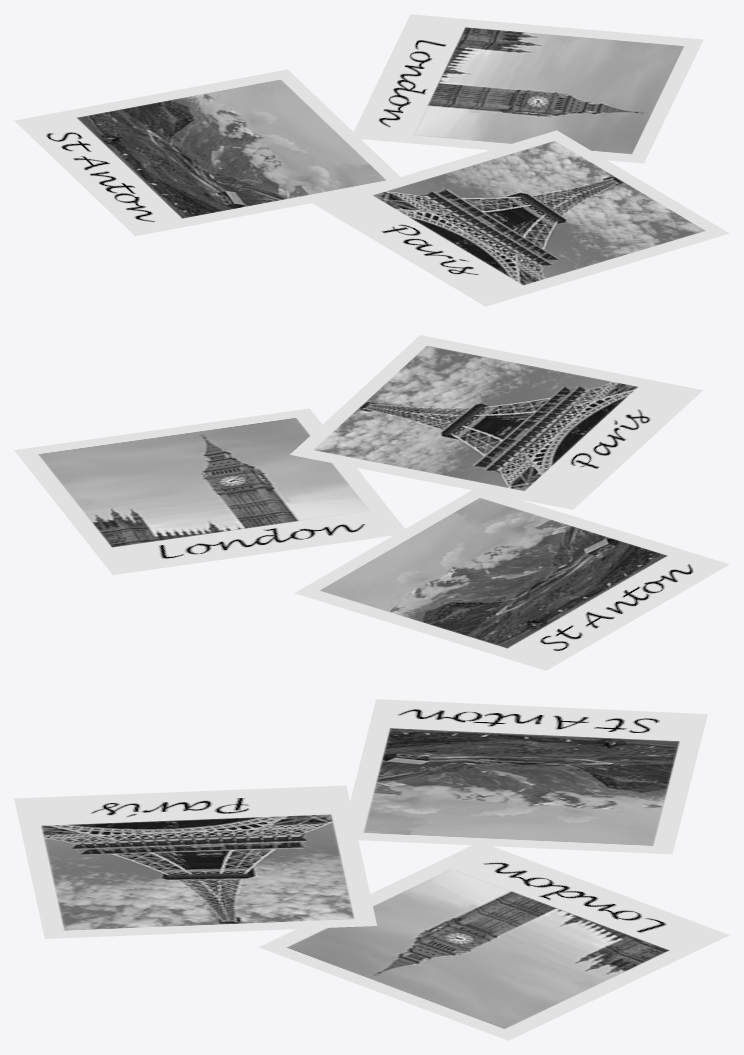
Rendered from Photos.fbx.
The picture shows the model from 3 angles, top to bottom: view 1: azimuth 30°, elevation 25°; view 2: azimuth 150°, elevation 25°; view 3: azimuth 270°, elevation 25°; orthographic projection. The views are drawn at different scales.
Visible parts, largest first — view 1: pPlane2, pPlane4, pPlane3; view 2: pPlane2, pPlane4, pPlane3; view 3: pPlane2, pPlane4, pPlane3.
Part boxes in pixels (x1,y1,x2,y2): pPlane2: [313, 130, 729, 306]; pPlane4: [14, 69, 399, 236]; pPlane3: [351, 14, 703, 163]; pPlane2: [290, 335, 702, 509]; pPlane4: [294, 490, 729, 670]; pPlane3: [14, 408, 407, 574]; pPlane2: [14, 785, 376, 938]; pPlane4: [350, 699, 707, 854]; pPlane3: [259, 842, 729, 1040].
Size of the model in its own units: 9.69 by 0.0385 by 8.58.
